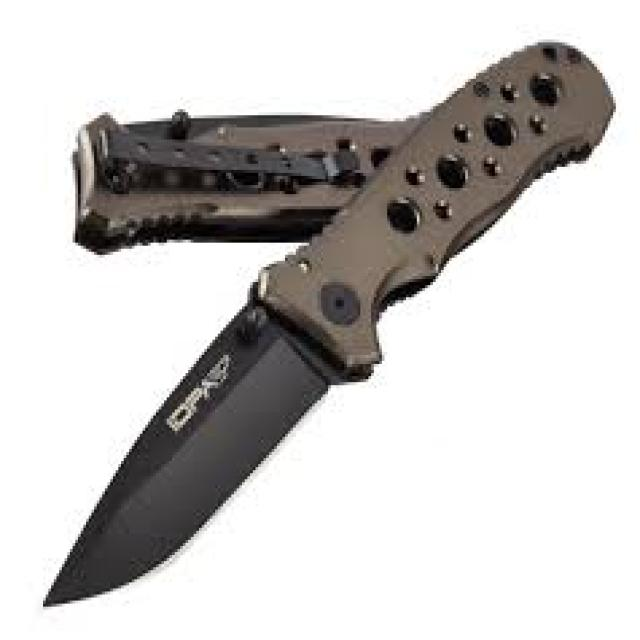knives: (37, 33, 618, 613)
